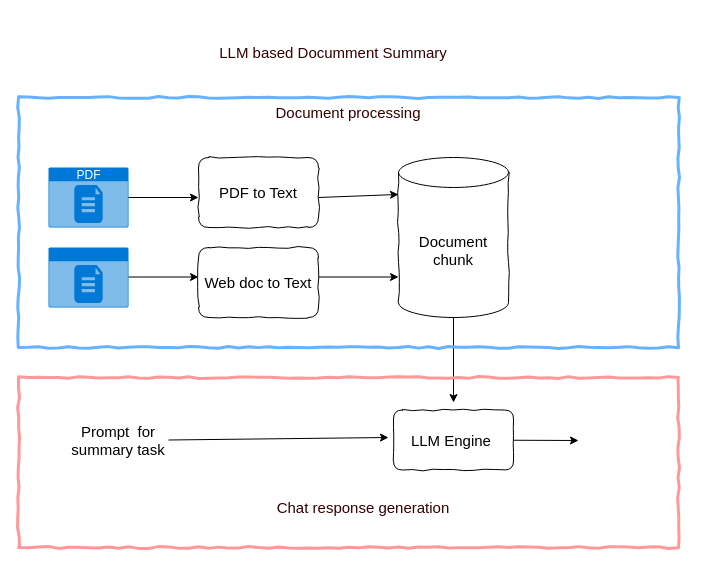
Some shapes in this 706 by 566 pixel diagram are drawn without their labels. The shapes that lost their labels are listed below. From the top down, each one's box as (x1, y1, x2, y2) in pixels, then its label:
(48, 247, 128, 307): Web Doc (URL)
(578, 407, 688, 470): LLM Output
